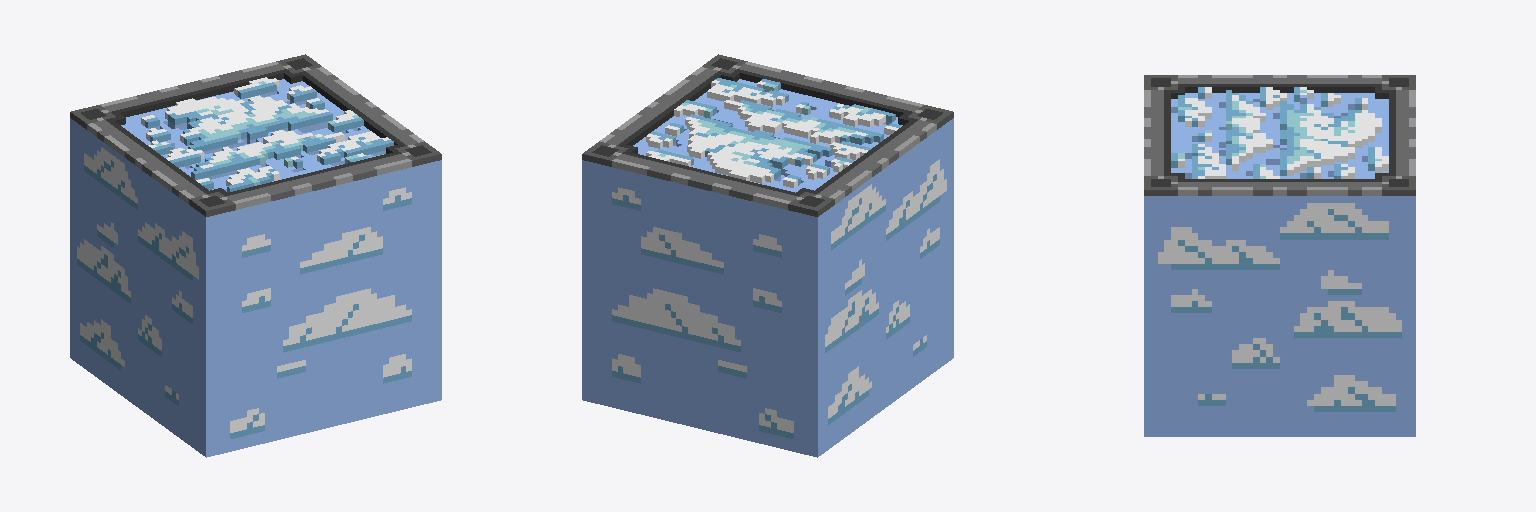
3 renders of one model, left to right at view 1: azimuth 30°, elevation 25°; view 2: azimuth 150°, elevation 25°; view 3: azimuth 270°, elevation 25°, orthographic.
Visible parts, largest first — view 1: object 1; view 2: object 1; view 3: object 1.
Boxes of the visible parts, <box> form: object 1: <box>70,54,441,457</box>; object 1: <box>582,54,953,457</box>; object 1: <box>1144,75,1415,436</box>.
Bounding box in the file's own units: 4 × 4 × 4.
Materials: 1 (1 with a texture image).